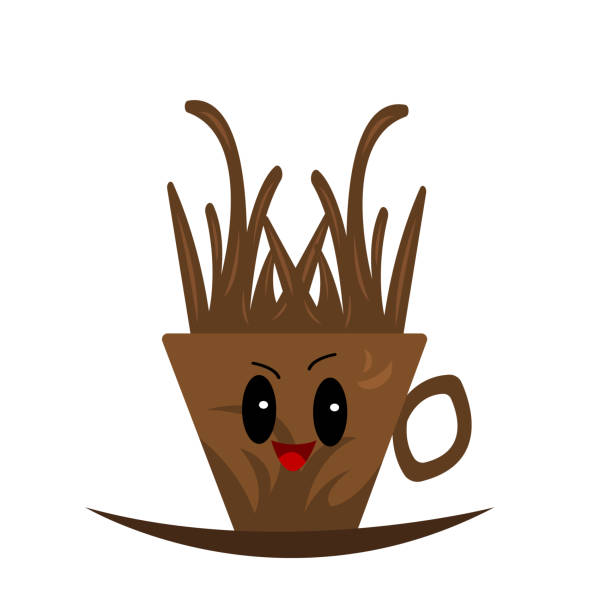cup: (38, 32, 545, 609)
